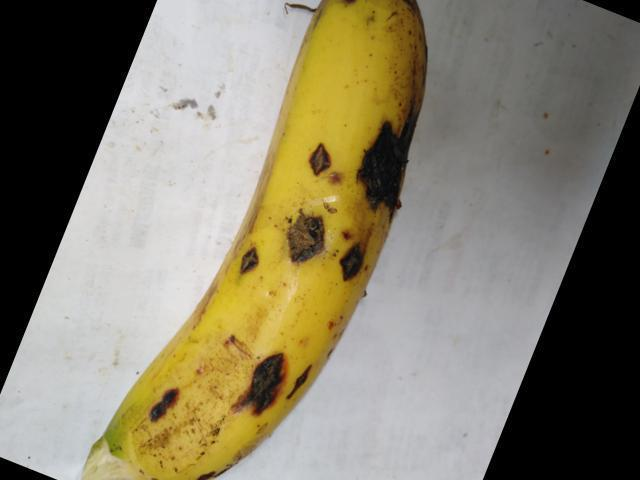rotten: (300, 117, 432, 212), (227, 341, 326, 432), (330, 224, 384, 294), (137, 372, 185, 438), (276, 211, 334, 264)
